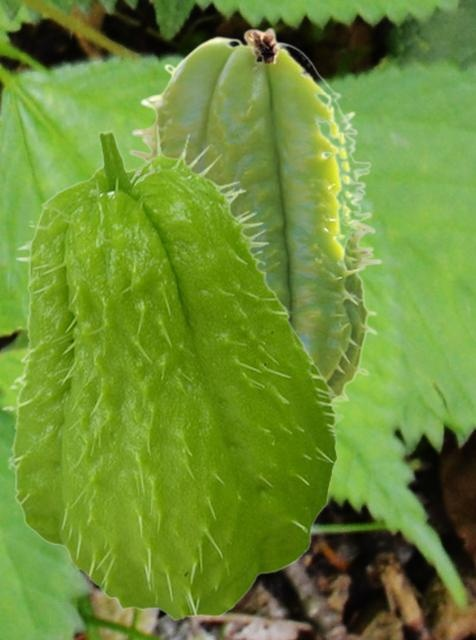sayote: (1, 123, 347, 620), (126, 26, 381, 403)
